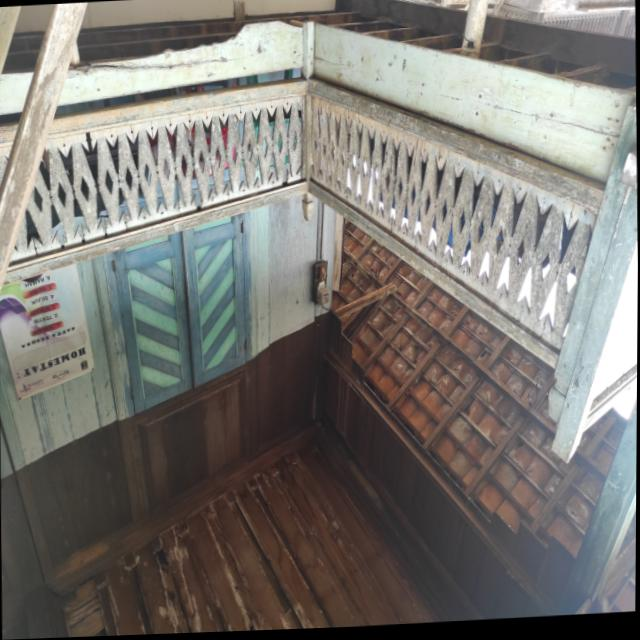Tembok Bangunan: (0, 191, 334, 623)
